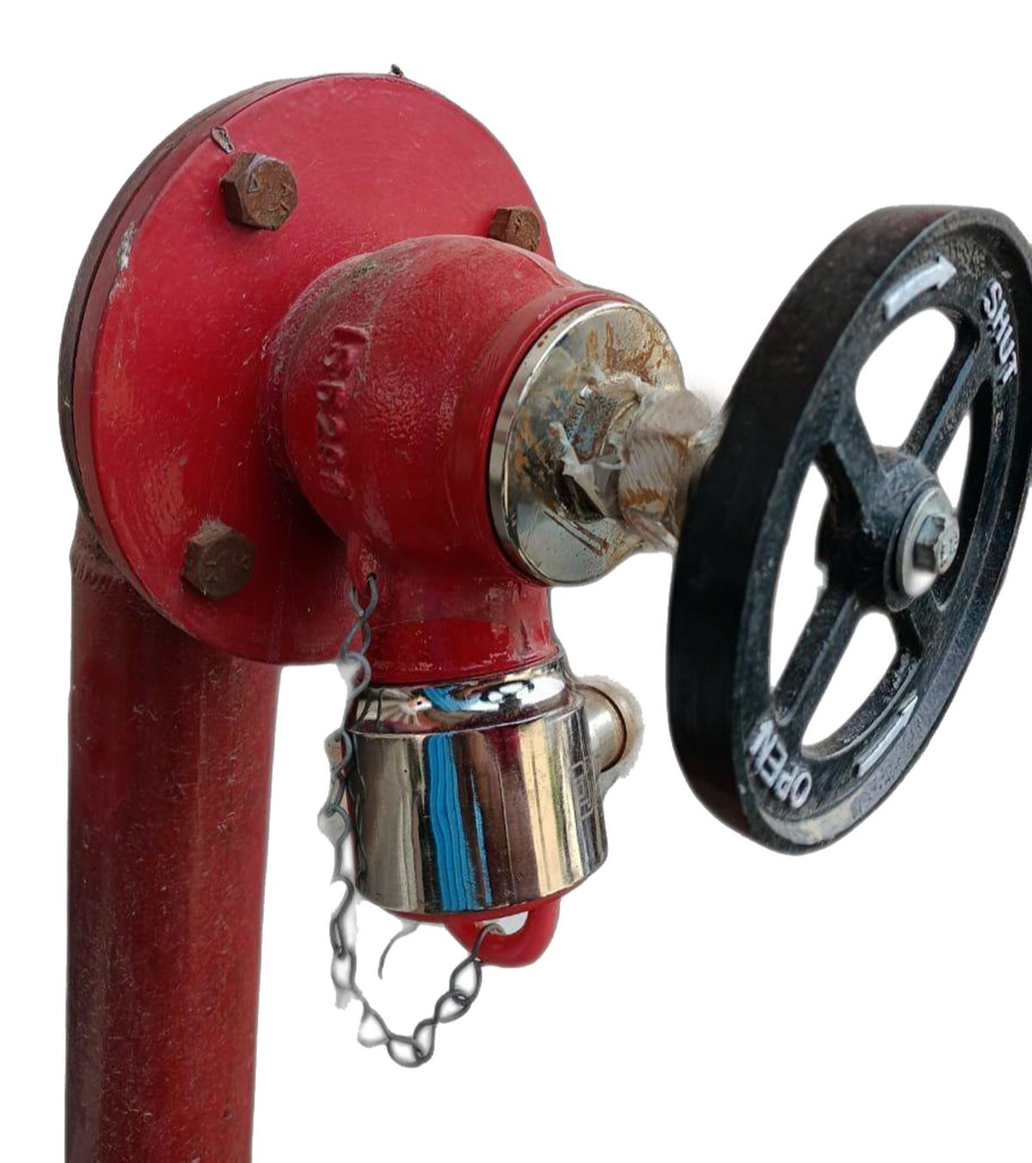FireHydrant: (28, 46, 1032, 1150)
